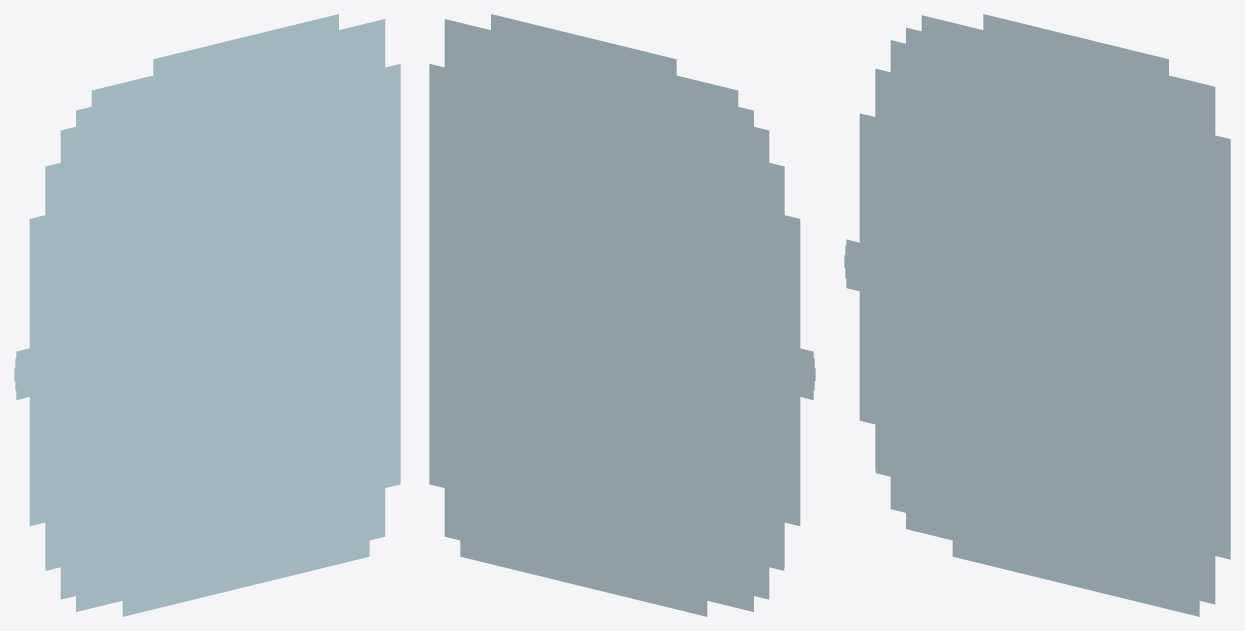
File: wp_water_24.obj
3 views of the same model, side by side, from view 1: azimuth 30°, elevation 25°; view 2: azimuth 150°, elevation 25°; view 3: azimuth 330°, elevation 25° (orthographic).
Size of the model in its own units: 0.357 by 0.4856 by 0.
1 material, 1 textured.
